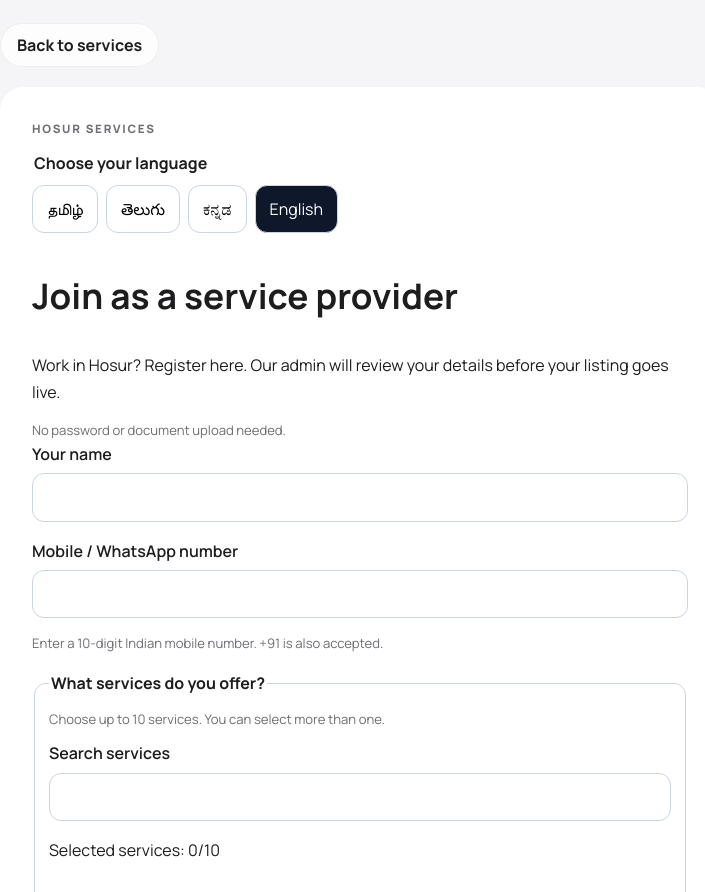
Test case: provider registration › preserves entered details while switching language and translates service labels
This screenshot has width=705, height=892.
In the field labelled "Your name": [360, 497] box left=32, top=473, right=688, bottom=522, type "Test provider"
In the field labelled "Mobile / WhatsApp number": [360, 594] box left=32, top=570, right=688, bottom=618, type "9876543210"
(page scrolled)
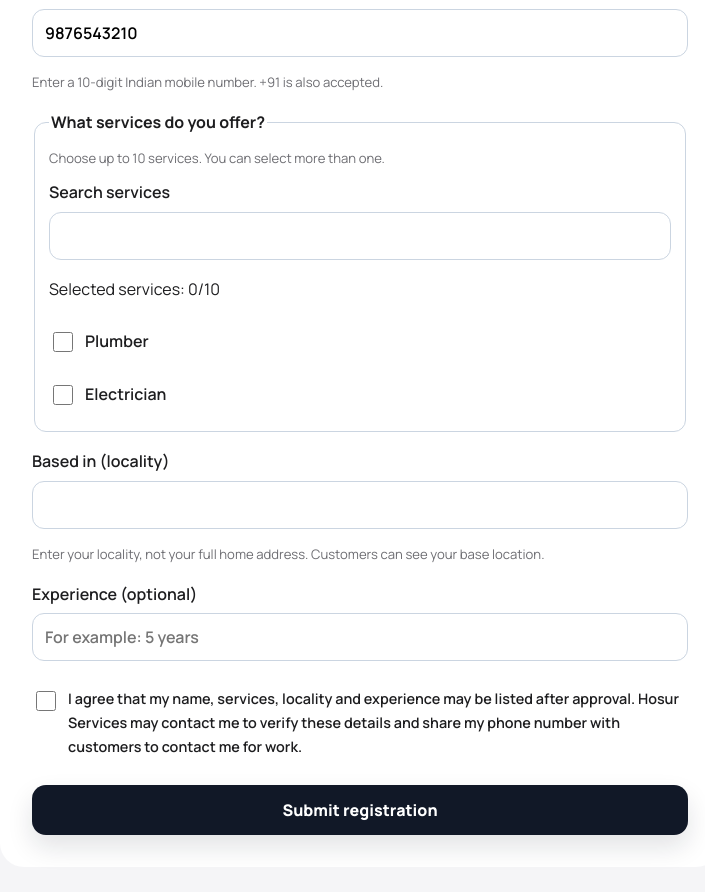
In the field labelled "Based in (locality)": [360, 505] box left=32, top=480, right=688, bottom=529, type "Test locality"
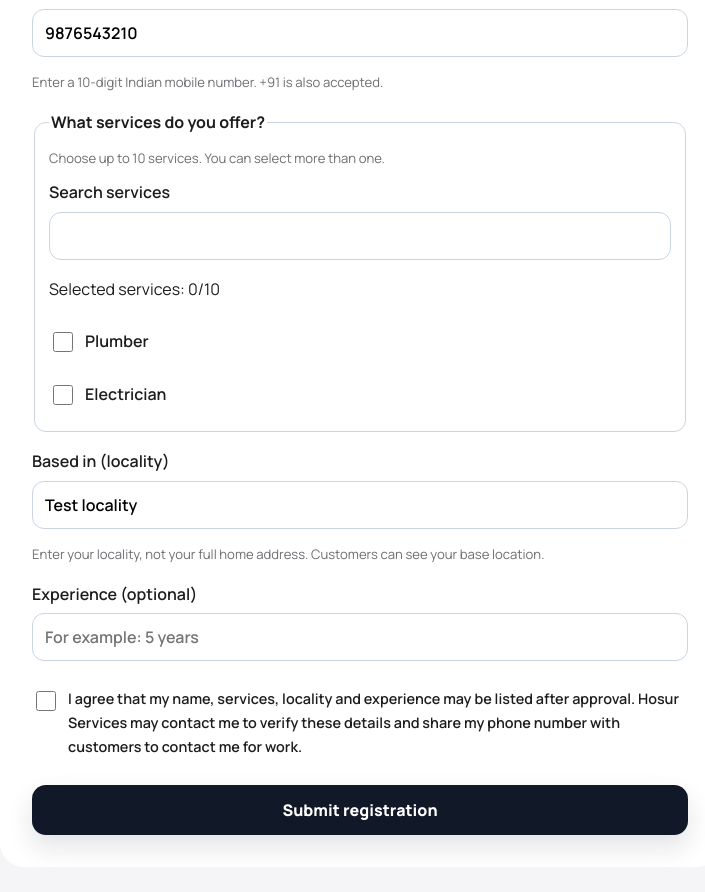
Click the checkbox labelled "Plumber": [63, 342] box left=53, top=332, right=73, bottom=352
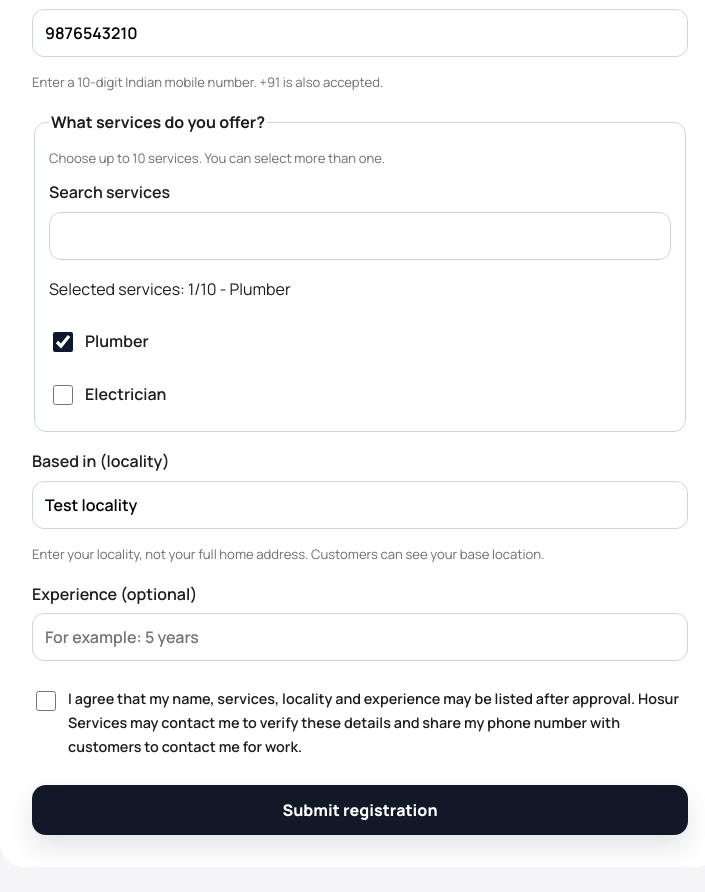
Click the checkbox named "I agree that my name, services, locality and experience may be listed after approval. Hosur Services may contact me to v": [46, 701] box left=36, top=691, right=56, bottom=711
(page scrolled)
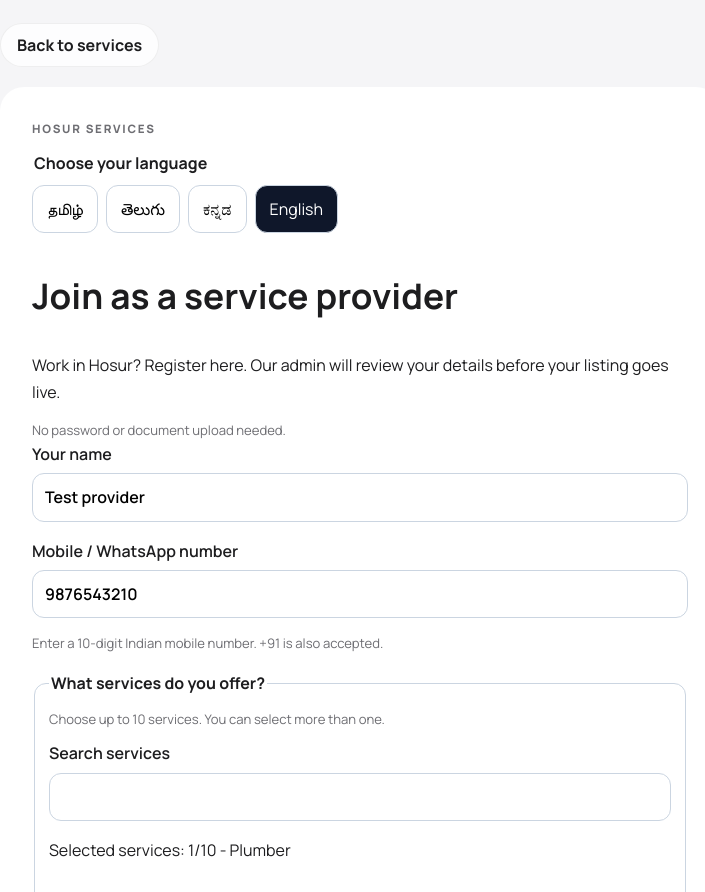
Click the button "తెలుగు": [143, 209] box left=106, top=185, right=180, bottom=233
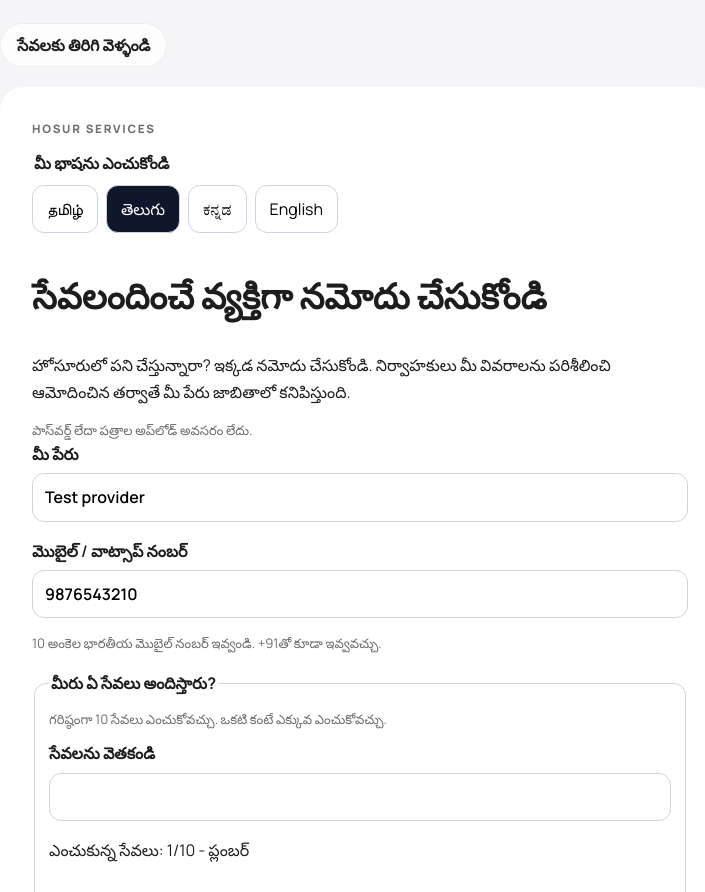
Click the button "ಕನ್ನಡ": [217, 209] box left=188, top=185, right=247, bottom=233
(page scrolled)
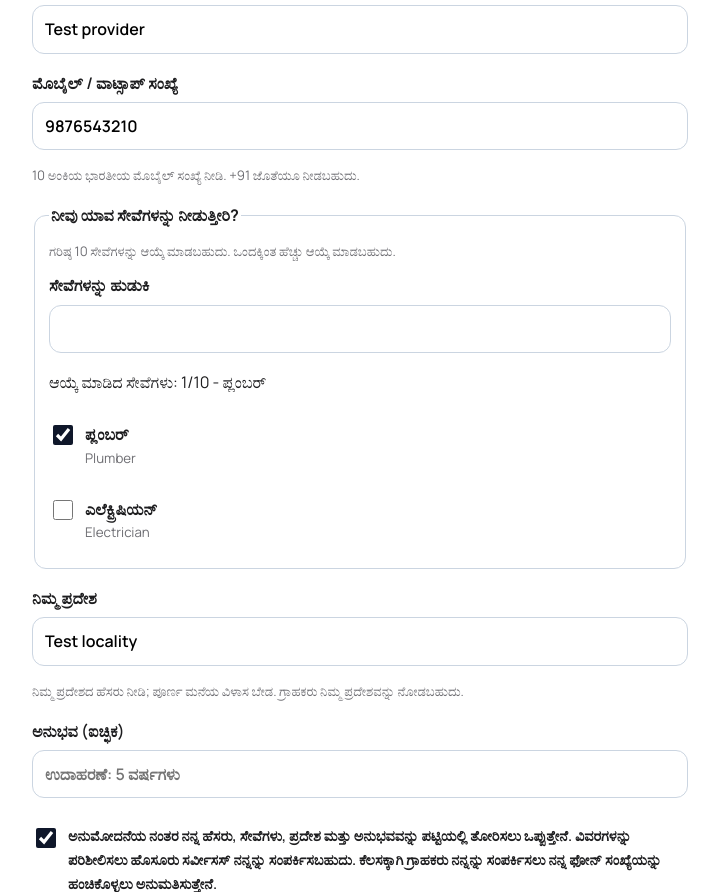
Result: the text "ಪ್ಲಂಬರ್" is shown at left=85, top=423, right=129, bottom=445
